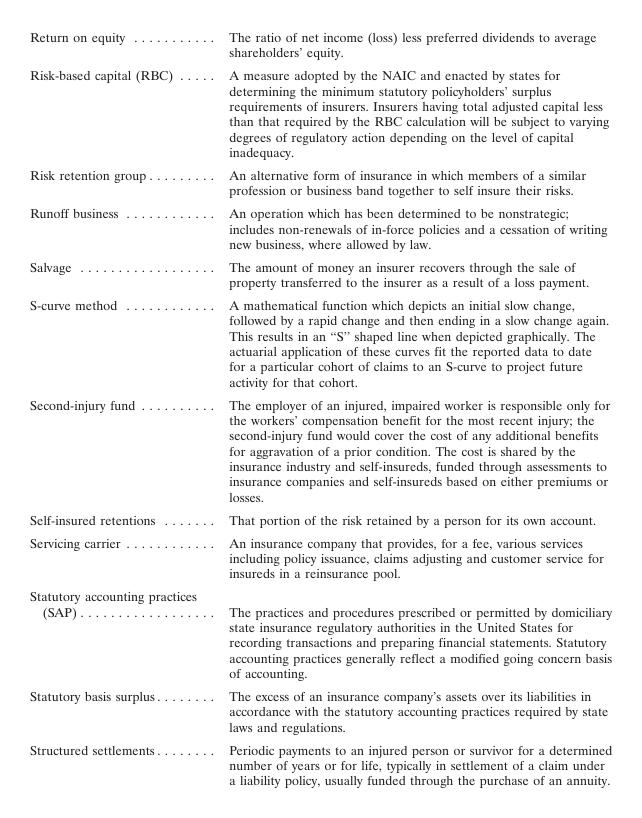table: (29, 28, 611, 787)
table column: (212, 28, 611, 787), (29, 28, 212, 787)
table row: (29, 392, 611, 507), (29, 63, 611, 162), (29, 293, 611, 392), (29, 584, 611, 683), (29, 530, 611, 584), (29, 683, 611, 737), (29, 201, 611, 254), (29, 737, 611, 787), (29, 162, 611, 201), (29, 254, 611, 293), (29, 28, 611, 63), (29, 507, 611, 530)
